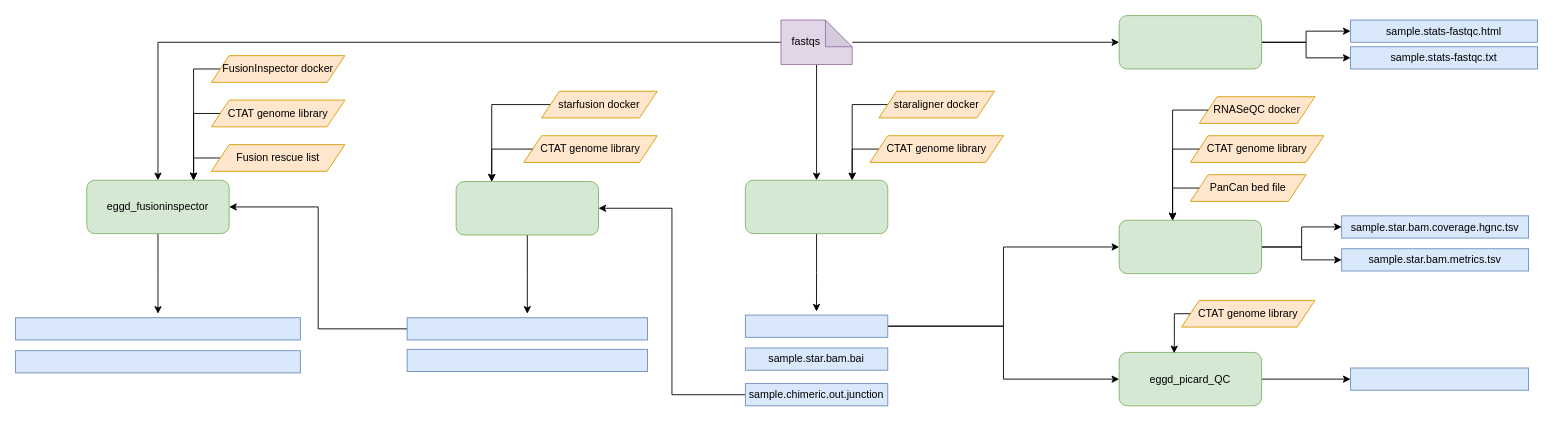
Image size: 1553x422. Some labels were removed from this diagram. Here are the shapes that lost their labels. From the top down, the box of each, then its label:
(1118, 15, 1262, 69): eggd_fastqc
(455, 181, 599, 235): eggd_starfusion
(744, 179, 888, 234): eggd_staraligner
(1118, 219, 1262, 274): eggd_RNASeQC
(15, 317, 300, 340): sample.FusionInspector.fusions.abridged.tsv.coding_effect
(406, 317, 647, 340): sample.star-fusion.fusion_predictions.tsv
(744, 314, 888, 337): sample.star.bam
(15, 350, 300, 373): sample.fusion_inspector_web.html
(406, 348, 647, 372): sample.star-fusion.fusion_predictions.abridged.tsv
(1350, 367, 1529, 390): sample.star.RNAmetrics.tsv
